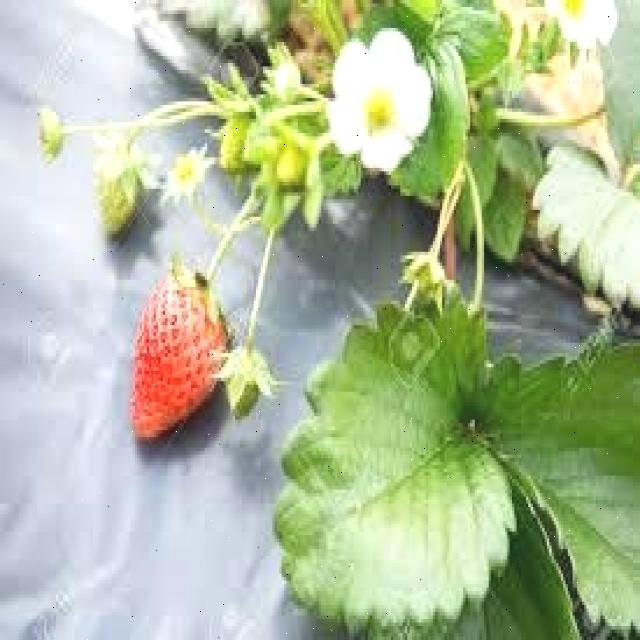ripe: (130, 277, 228, 439)
unripe: (97, 147, 140, 236)
